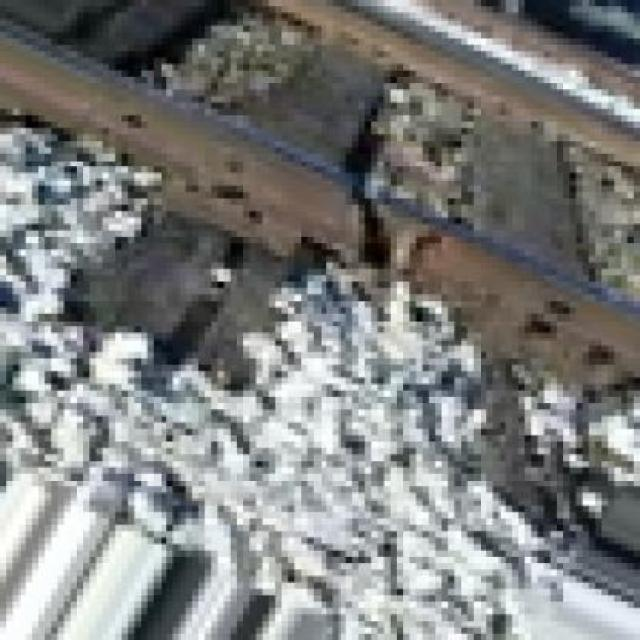defective: (0, 127, 640, 389)
